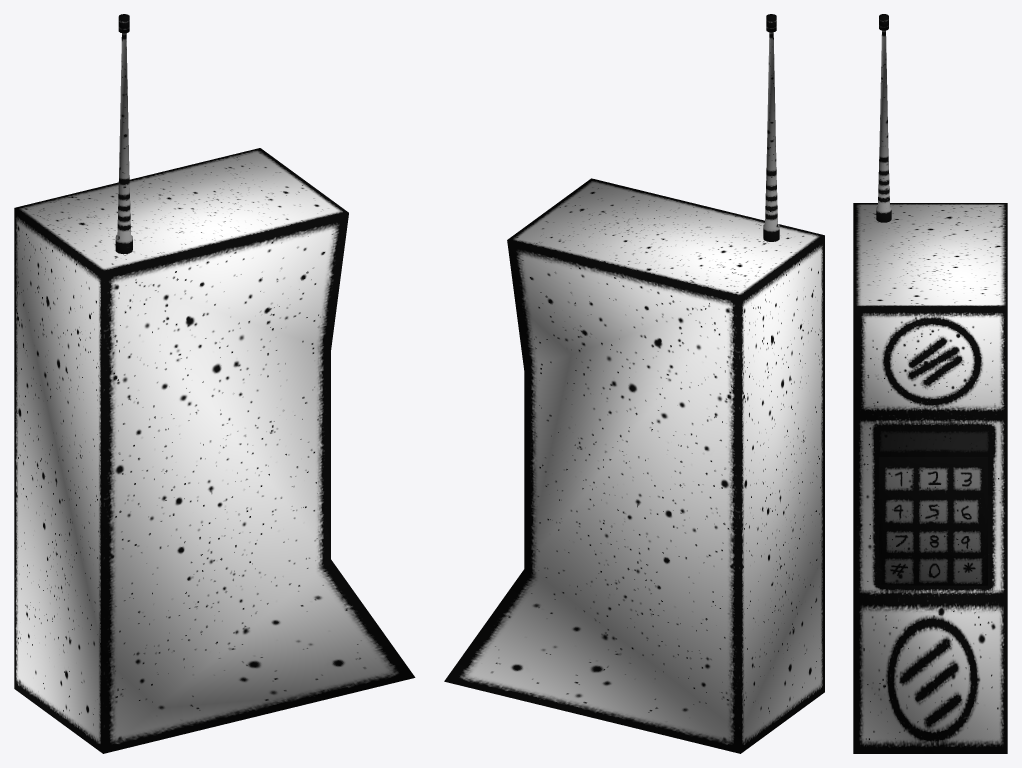
The model's file is BrickPhone.obj.
3 renders of one model, left to right at view 1: azimuth 30°, elevation 25°; view 2: azimuth 150°, elevation 25°; view 3: azimuth 270°, elevation 25°, orthographic. The views are drawn at different scales.
Parts seen in each view (by area): view 1: Cube_Cube.001; view 2: Cube_Cube.001; view 3: Cube_Cube.001.
Part boxes in pixels (x1,y1,x2,y2): Cube_Cube.001: [14, 14, 415, 753]; Cube_Cube.001: [444, 14, 824, 753]; Cube_Cube.001: [853, 14, 1007, 753].
Bounding box in the file's own units: 4.06 × 8.89 × 2.
